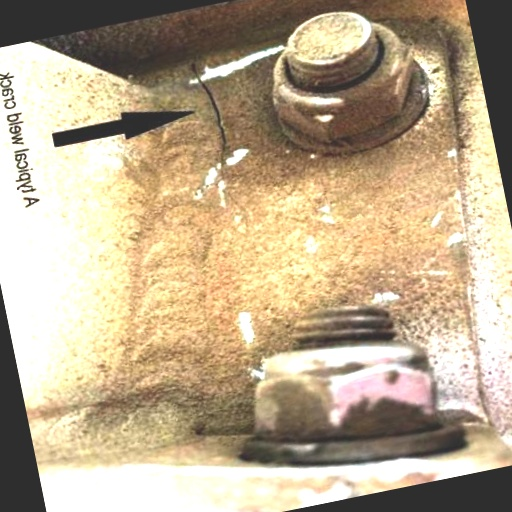crack: (54, 0, 333, 141)
